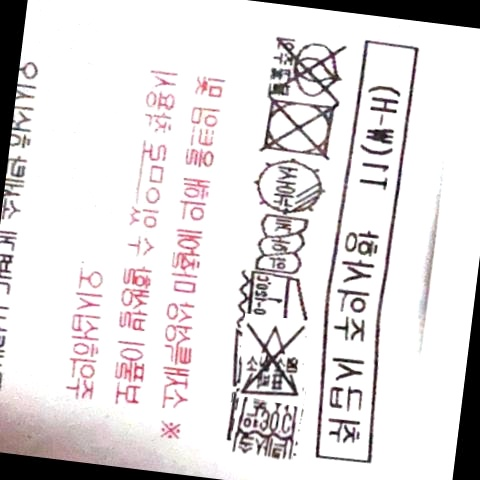DN_bleach: (236, 322, 307, 397)
DN_tumble_dry: (260, 95, 337, 162)
dry_flat_in_shade: (250, 158, 322, 215)
hand_wash: (234, 395, 298, 464)
iron_low: (235, 272, 309, 320)
wring: (248, 216, 306, 274)
